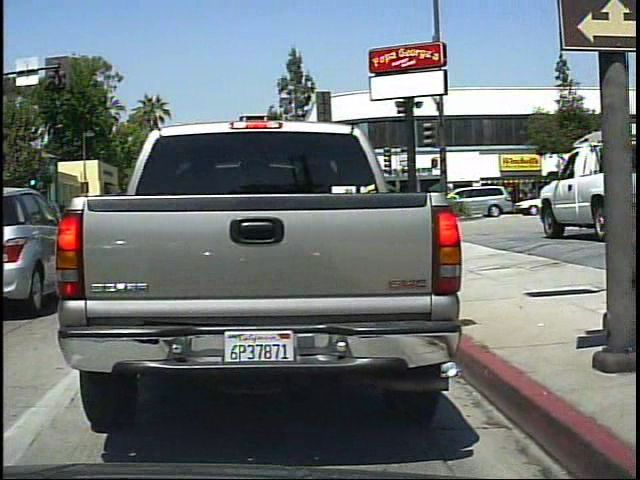car: (47, 112, 476, 434), (536, 132, 606, 243), (443, 184, 511, 218)
